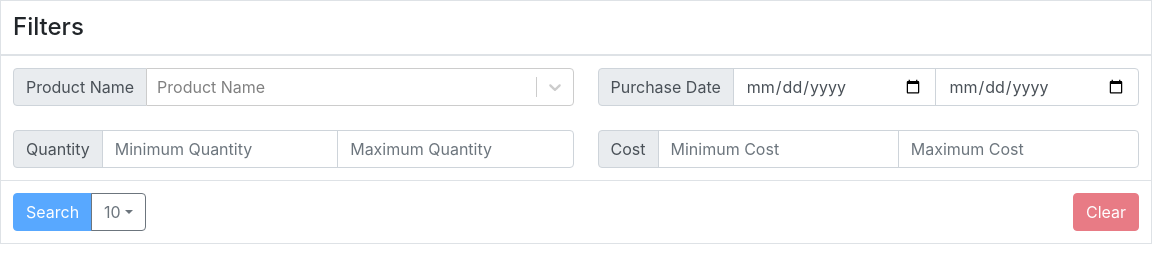
Test: Tests the functionality of the purchases/PurchasesFilter component › Tests the proper functionality of the search button › becomes enabled when a user changes any of the filter fields, and becomes disabled after the search button is clicked.
Expected: the button with id "filter-submit" is disabled, top-left (13, 193), bottom-right (92, 231)
Type "1" into the number field with id "min-quantity".
click(220, 149); type("1")  # box top-left (102, 130), bottom-right (338, 168)
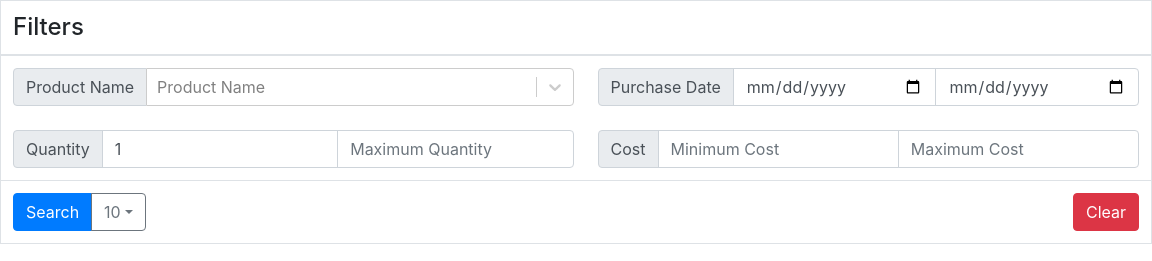
Expected: the button with id "filter-submit" is enabled
Submit the form from the button with id "filter-submit", box top-left (13, 193), bottom-right (92, 231)
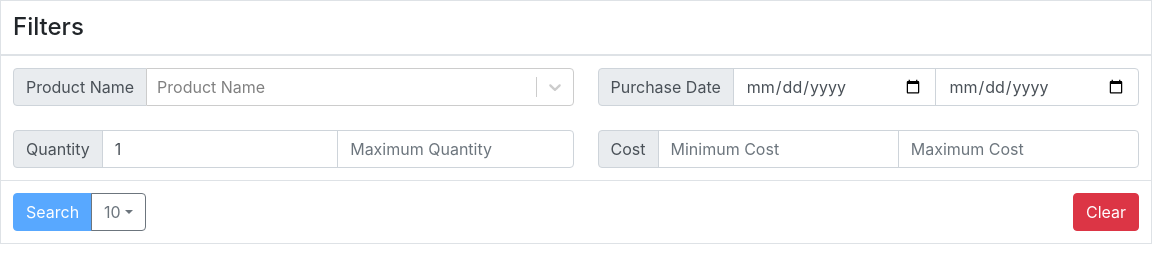
Expected: the button with id "filter-submit" is disabled, top-left (13, 193), bottom-right (92, 231)
